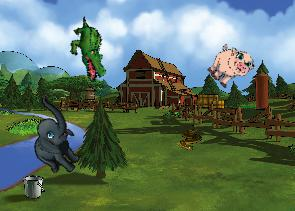crocodile: (57, 15, 121, 84)
elephant: (10, 94, 99, 181)
pig: (202, 38, 258, 94)
